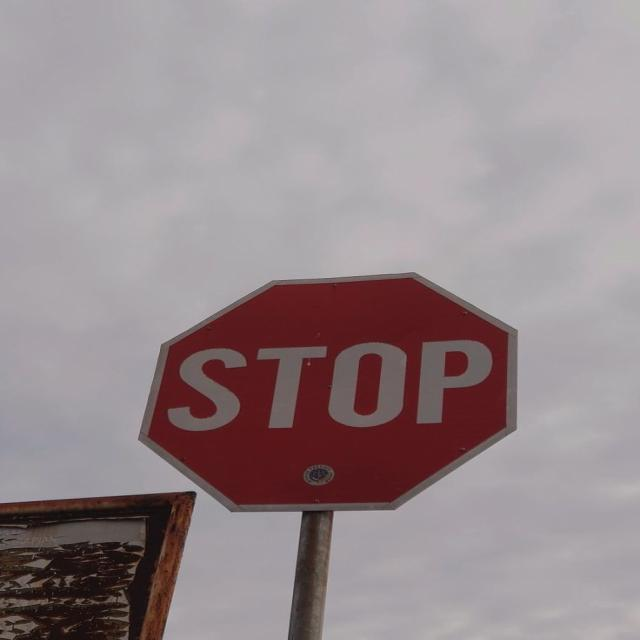stop: (137, 270, 519, 513)
